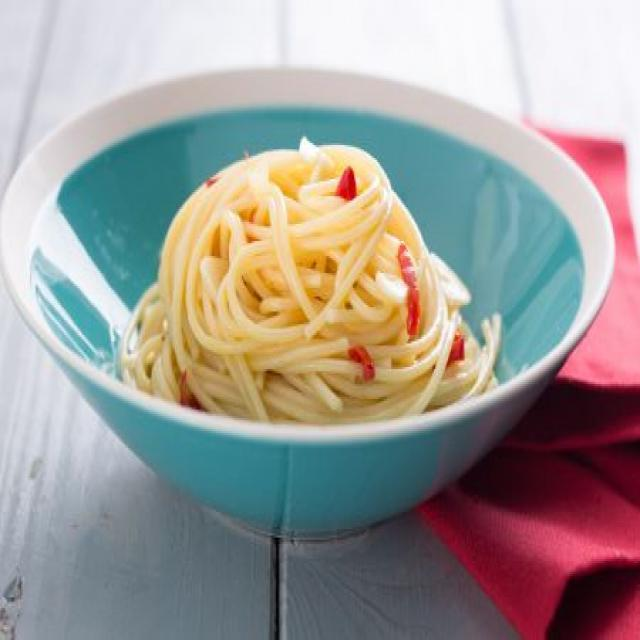Oil pasta: (107, 87, 518, 511)
